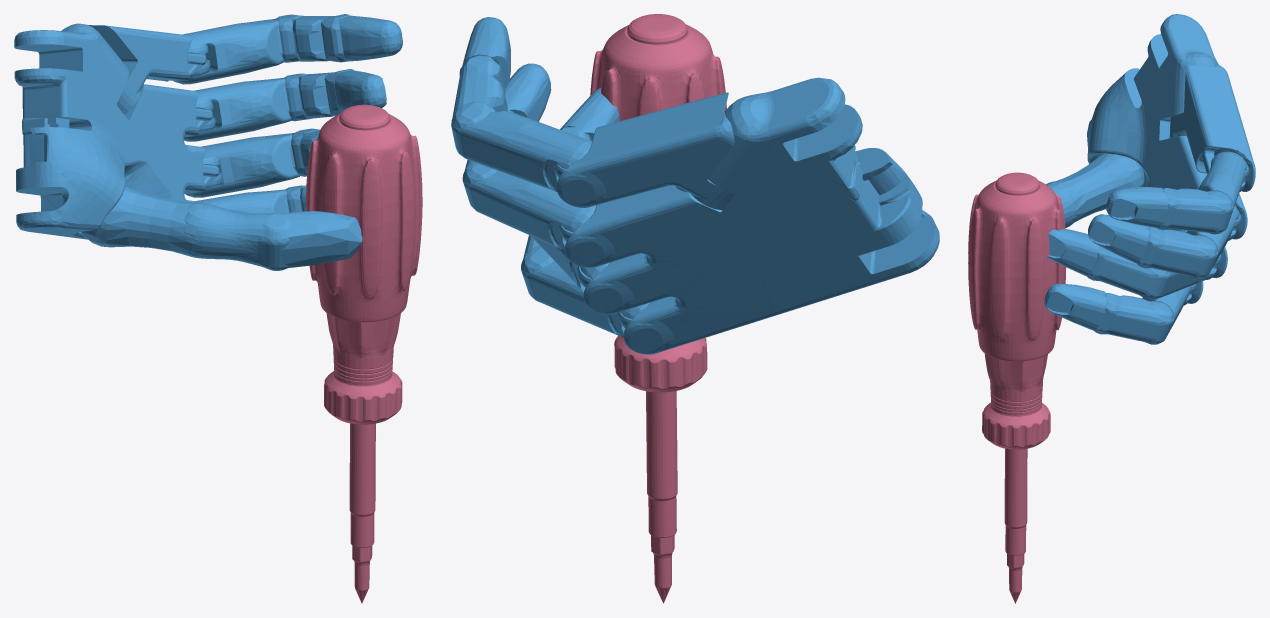
3 views of the same model, side by side, from view 1: azimuth 30°, elevation 25°; view 2: azimuth 150°, elevation 25°; view 3: azimuth 270°, elevation 25° (orthographic). The views are drawn at different scales.
Visible parts, largest first — view 1: 7; view 2: 7; view 3: 7.
Part boxes in pixels (left/top/right/bottom): 7: left=14, top=14, right=422, bottom=603; 7: left=451, top=14, right=939, bottom=603; 7: left=968, top=14, right=1255, bottom=603.
Bounding box in the file's own units: 0.1746 × 0.2462 × 0.131.
